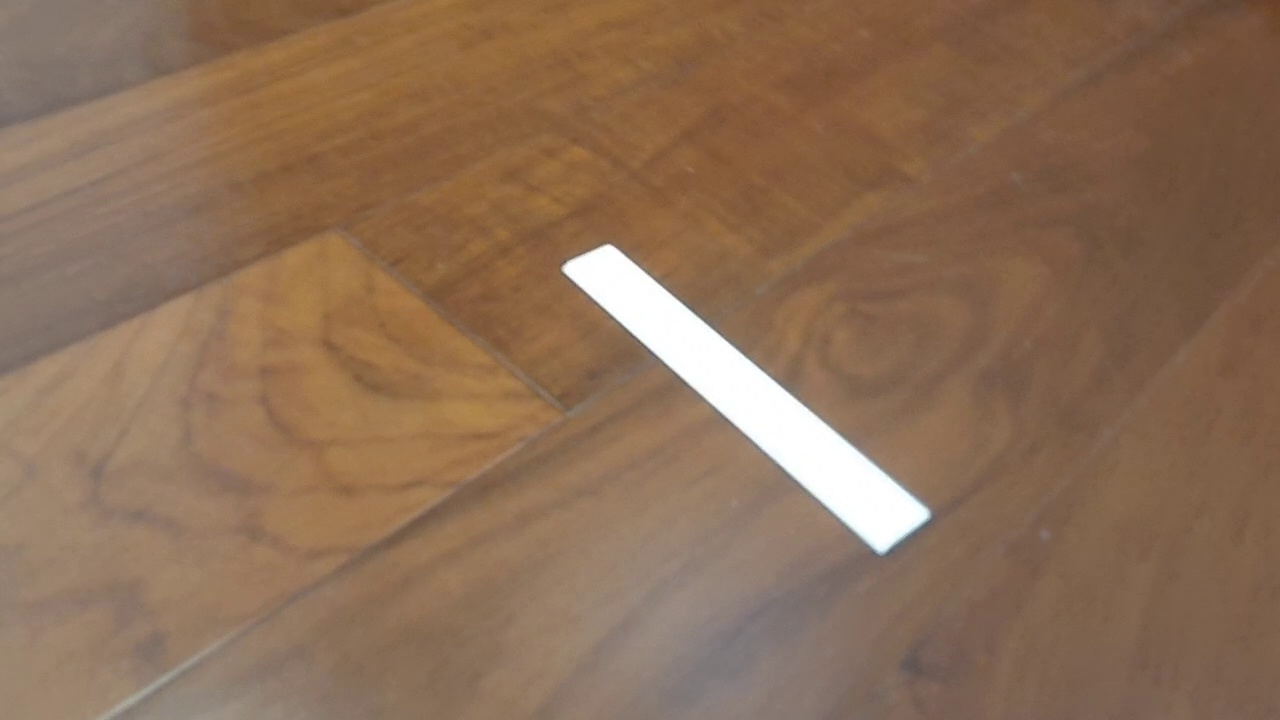ruler: (559, 240, 933, 557)
